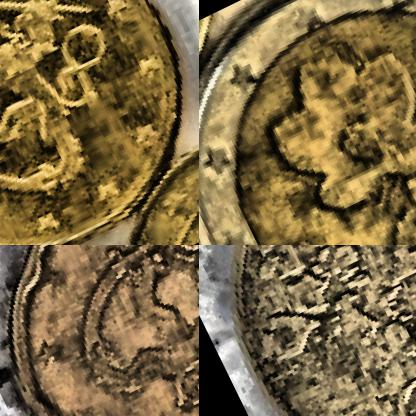coin: (199, 0, 415, 244), (0, 0, 198, 244), (199, 245, 415, 415), (0, 245, 198, 415)
